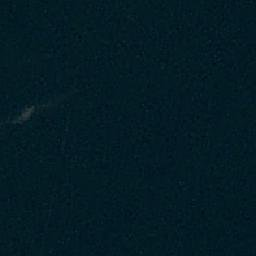debris: (9, 105, 35, 126)
